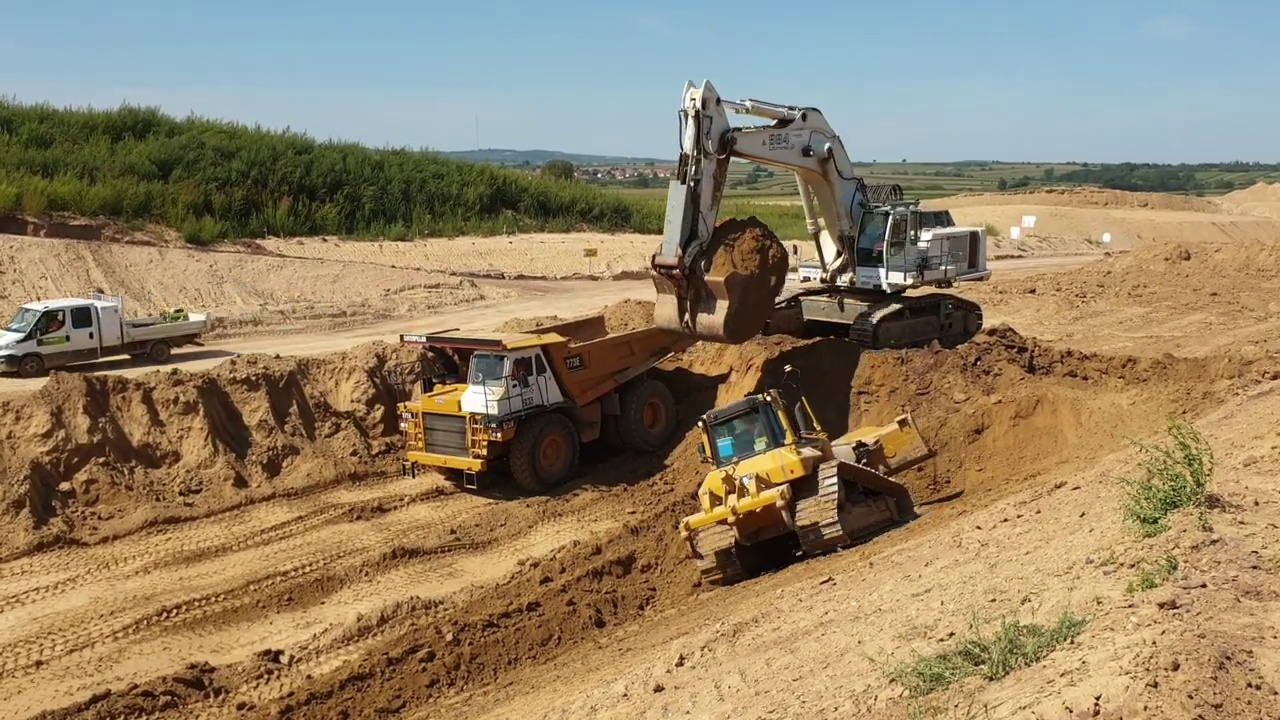bulldozer: (674, 369, 945, 590)
excavator: (647, 75, 992, 367)
truck: (395, 310, 695, 498), (1, 295, 212, 378)
